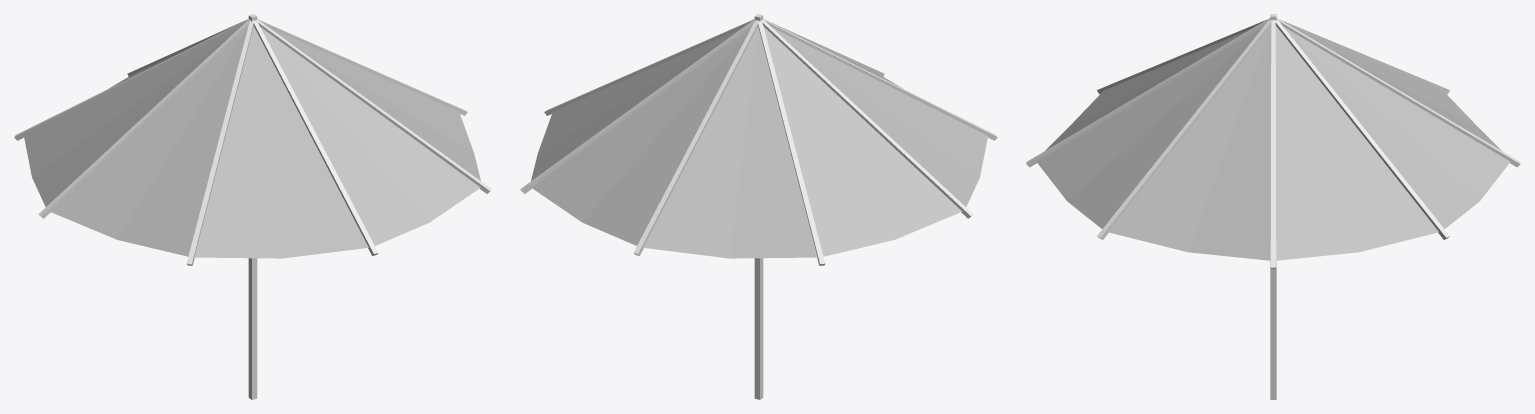
Rendered from umbrella_05.fbx.
3 renders of one model, left to right at view 1: azimuth 30°, elevation 25°; view 2: azimuth 150°, elevation 25°; view 3: azimuth 270°, elevation 25°, orthographic.
Visible parts, largest first — view 1: umbrella_05; view 2: umbrella_05; view 3: umbrella_05.
Part boxes in pixels (x1,y1,x2,y2): umbrella_05: [14, 14, 491, 399]; umbrella_05: [520, 14, 997, 399]; umbrella_05: [1026, 14, 1520, 399].
Bounding box in the file's own units: 3.66 × 3.14 × 3.66.
